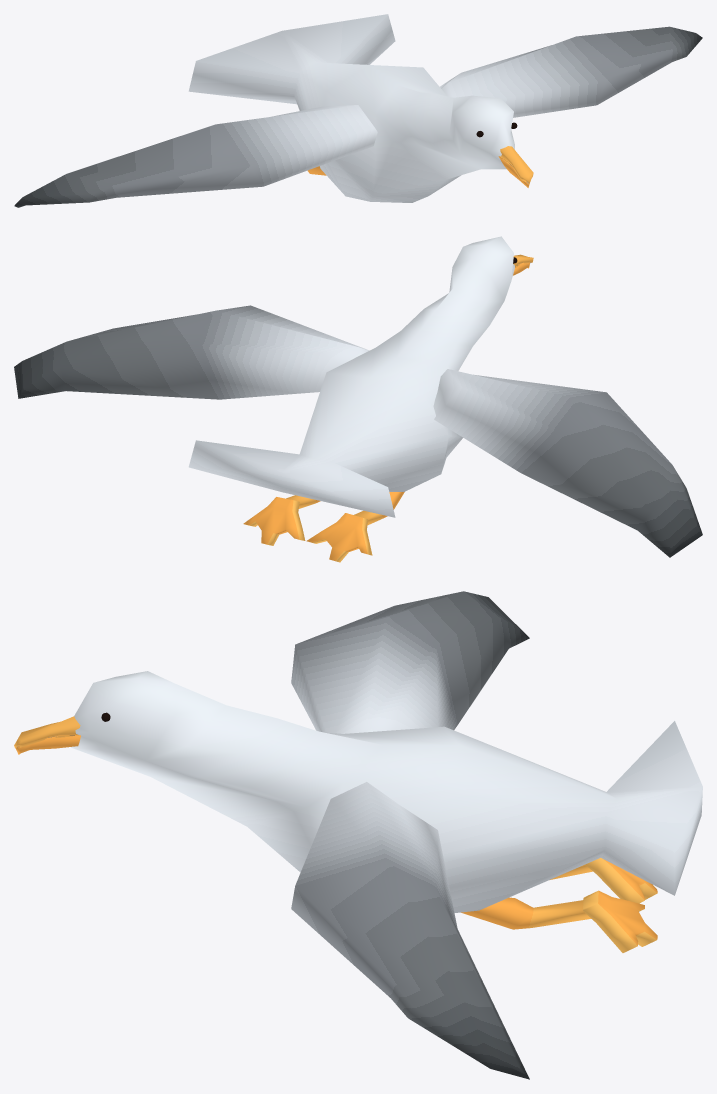
The model's file is 8gull.glb.
3 renders of one model, top to bottom at view 1: azimuth 30°, elevation 25°; view 2: azimuth 150°, elevation 25°; view 3: azimuth 270°, elevation 25°, orthographic. The views are drawn at different scales.
Parts seen in each view (by area): view 1: Seagull.Fly_0; view 2: Seagull.Fly_0; view 3: Seagull.Fly_0.
Boxes of the visible parts, left/top/right/bottom form: Seagull.Fly_0: left=14, top=14, right=702, bottom=207; Seagull.Fly_0: left=14, top=236, right=702, bottom=562; Seagull.Fly_0: left=14, top=591, right=702, bottom=1079.
Bounding box in the file's own units: 2.37 × 0.5777 × 1.48.
1 material, 1 textured.
